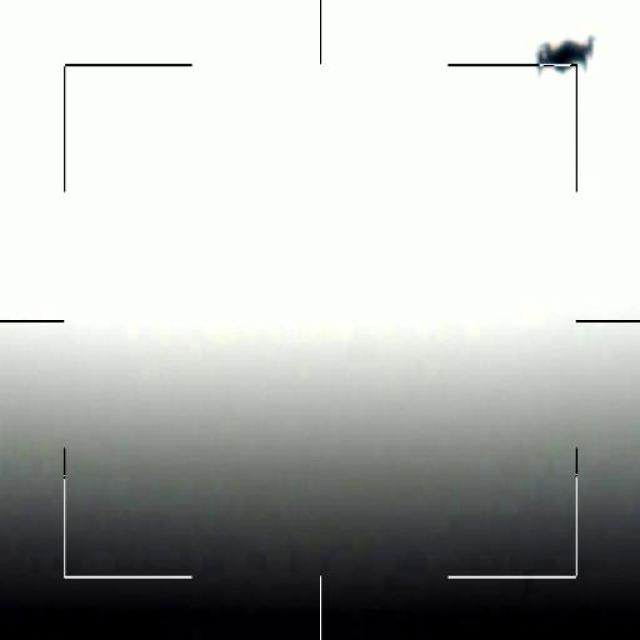bird: (528, 35, 604, 76)
